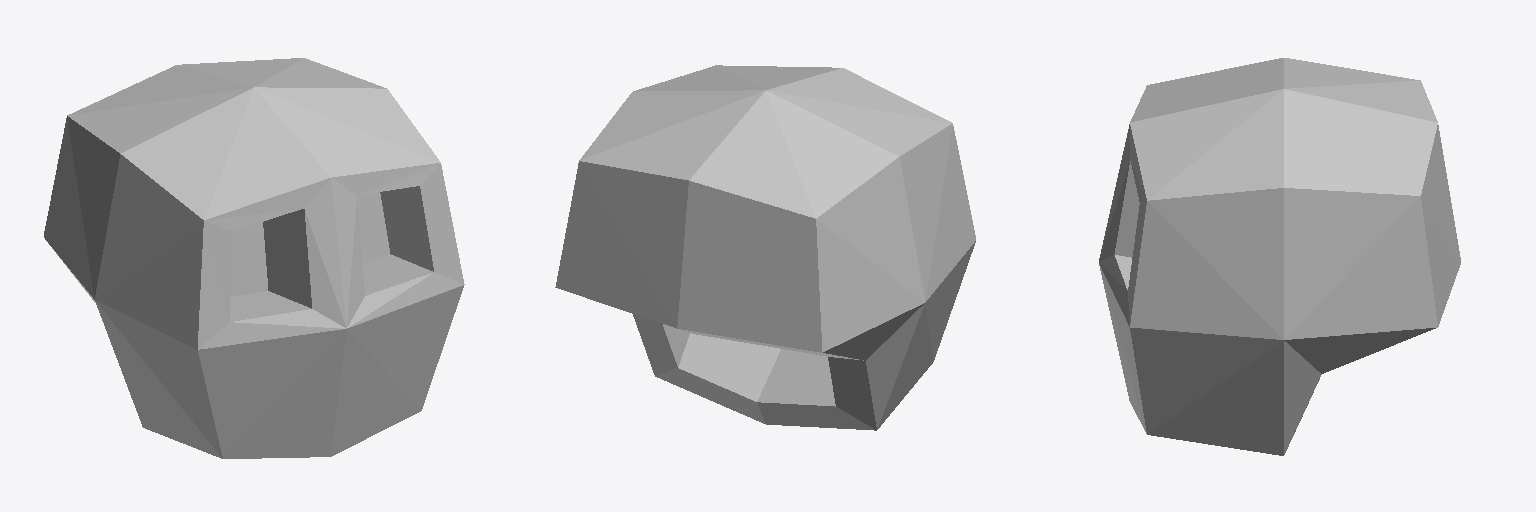
File: skullDummy.obj
3 renders of one model, left to right at view 1: azimuth 30°, elevation 25°; view 2: azimuth 150°, elevation 25°; view 3: azimuth 270°, elevation 25°, orthographic.
Visible parts, largest first — view 1: skull; view 2: skull; view 3: skull.
Boxes of the visible parts, x1=… form: skull: x1=44, y1=58, x2=464, y2=458; skull: x1=555, y1=65, x2=975, y2=430; skull: x1=1099, y1=58, x2=1460, y2=455.
Size of the model in its own units: 1.19 by 1.2 by 1.18.